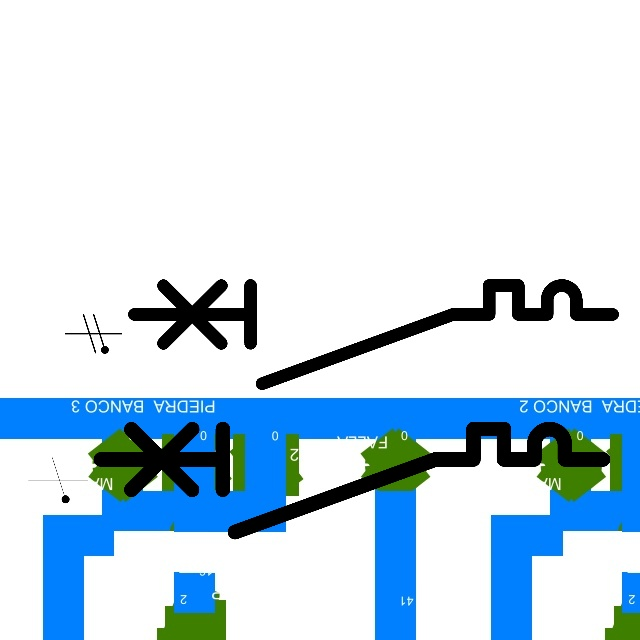interruptor_termomagnetico: (87, 416, 615, 545), (121, 273, 624, 396)
